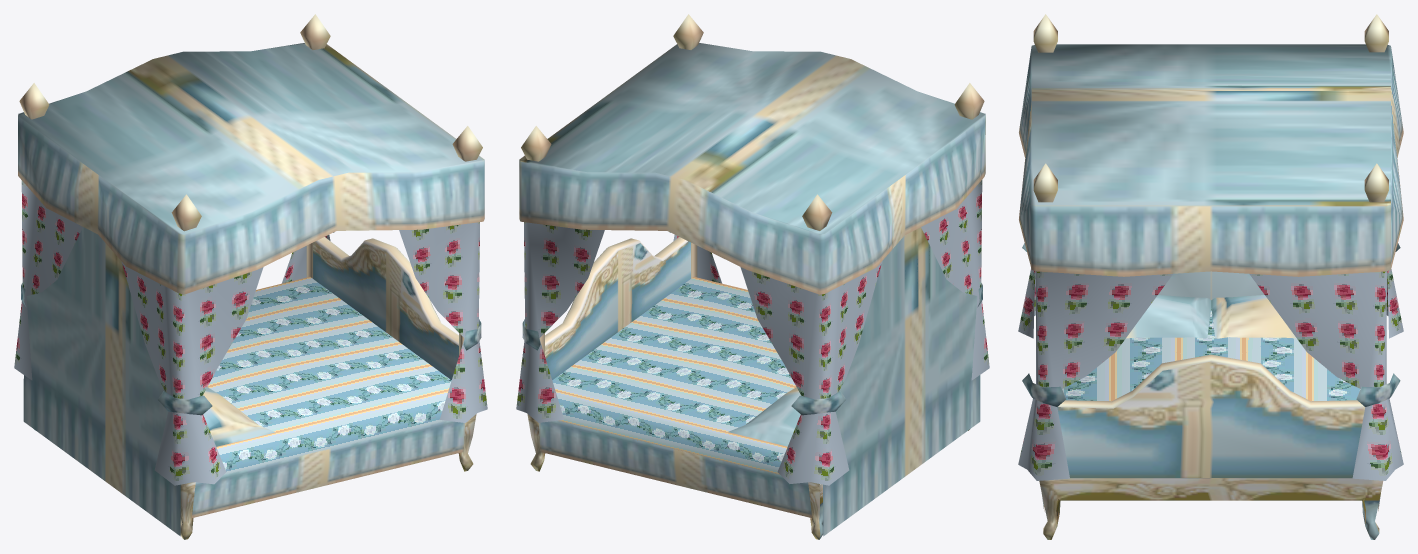
The model's file is int_pri_bedW.dae.
3 renders of one model, left to right at view 1: azimuth 30°, elevation 25°; view 2: azimuth 150°, elevation 25°; view 3: azimuth 270°, elevation 25°, orthographic. The views are drawn at different scales.
Parts seen in each view (by area): view 1: int_pri_bedW; view 2: int_pri_bedW; view 3: int_pri_bedW.
Part boxes in pixels (<box>): int_pri_bedW: <box>14,14,487,539</box>; int_pri_bedW: <box>516,14,989,539</box>; int_pri_bedW: <box>1018,14,1403,539</box>.
Bounding box in the file's own units: 64 × 64.7 × 60.1.
4 materials, 4 textured.
